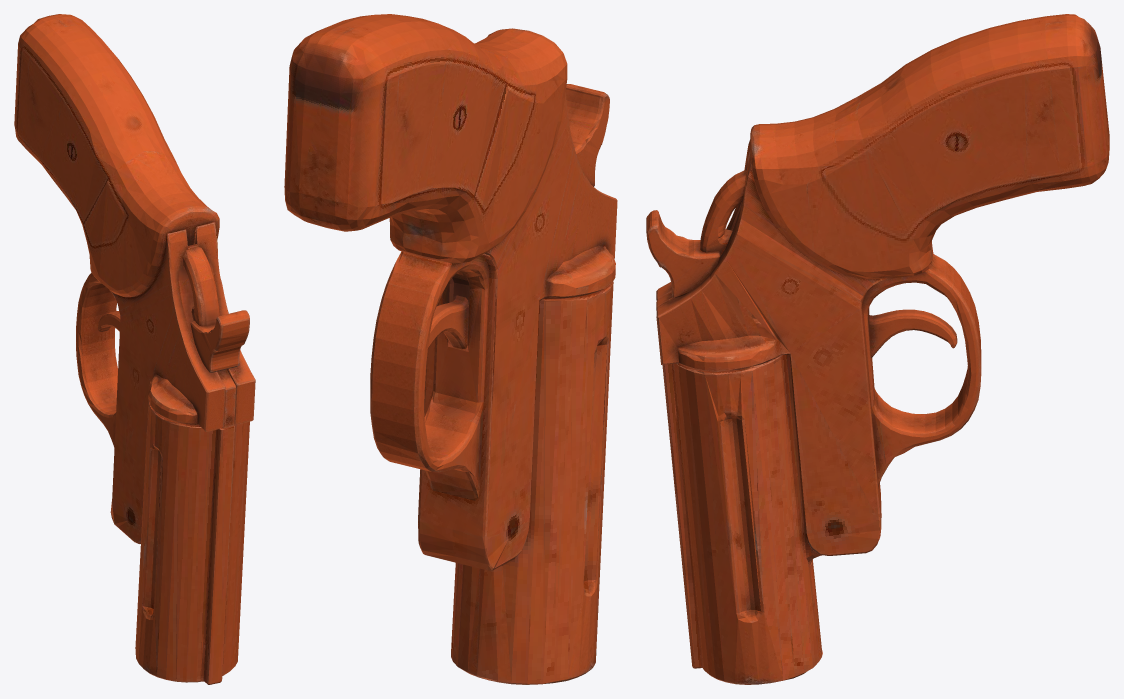
File: ewm_flaregun.glb
The picture shows the model from 3 angles, left to right: view 1: azimuth 30°, elevation 25°; view 2: azimuth 150°, elevation 25°; view 3: azimuth 270°, elevation 25°; orthographic projection. The views are drawn at different scales.
Visible parts, largest first — view 1: ewm_flaregun; view 2: ewm_flaregun; view 3: ewm_flaregun.
Part boxes in pixels (left/top/right/bottom): ewm_flaregun: left=14, top=14, right=255, bottom=684; ewm_flaregun: left=284, top=14, right=617, bottom=684; ewm_flaregun: left=646, top=14, right=1109, bottom=684.
Bounding box in the file's own units: 0.0384 × 0.22 × 0.1434.
1 material, 1 textured.
